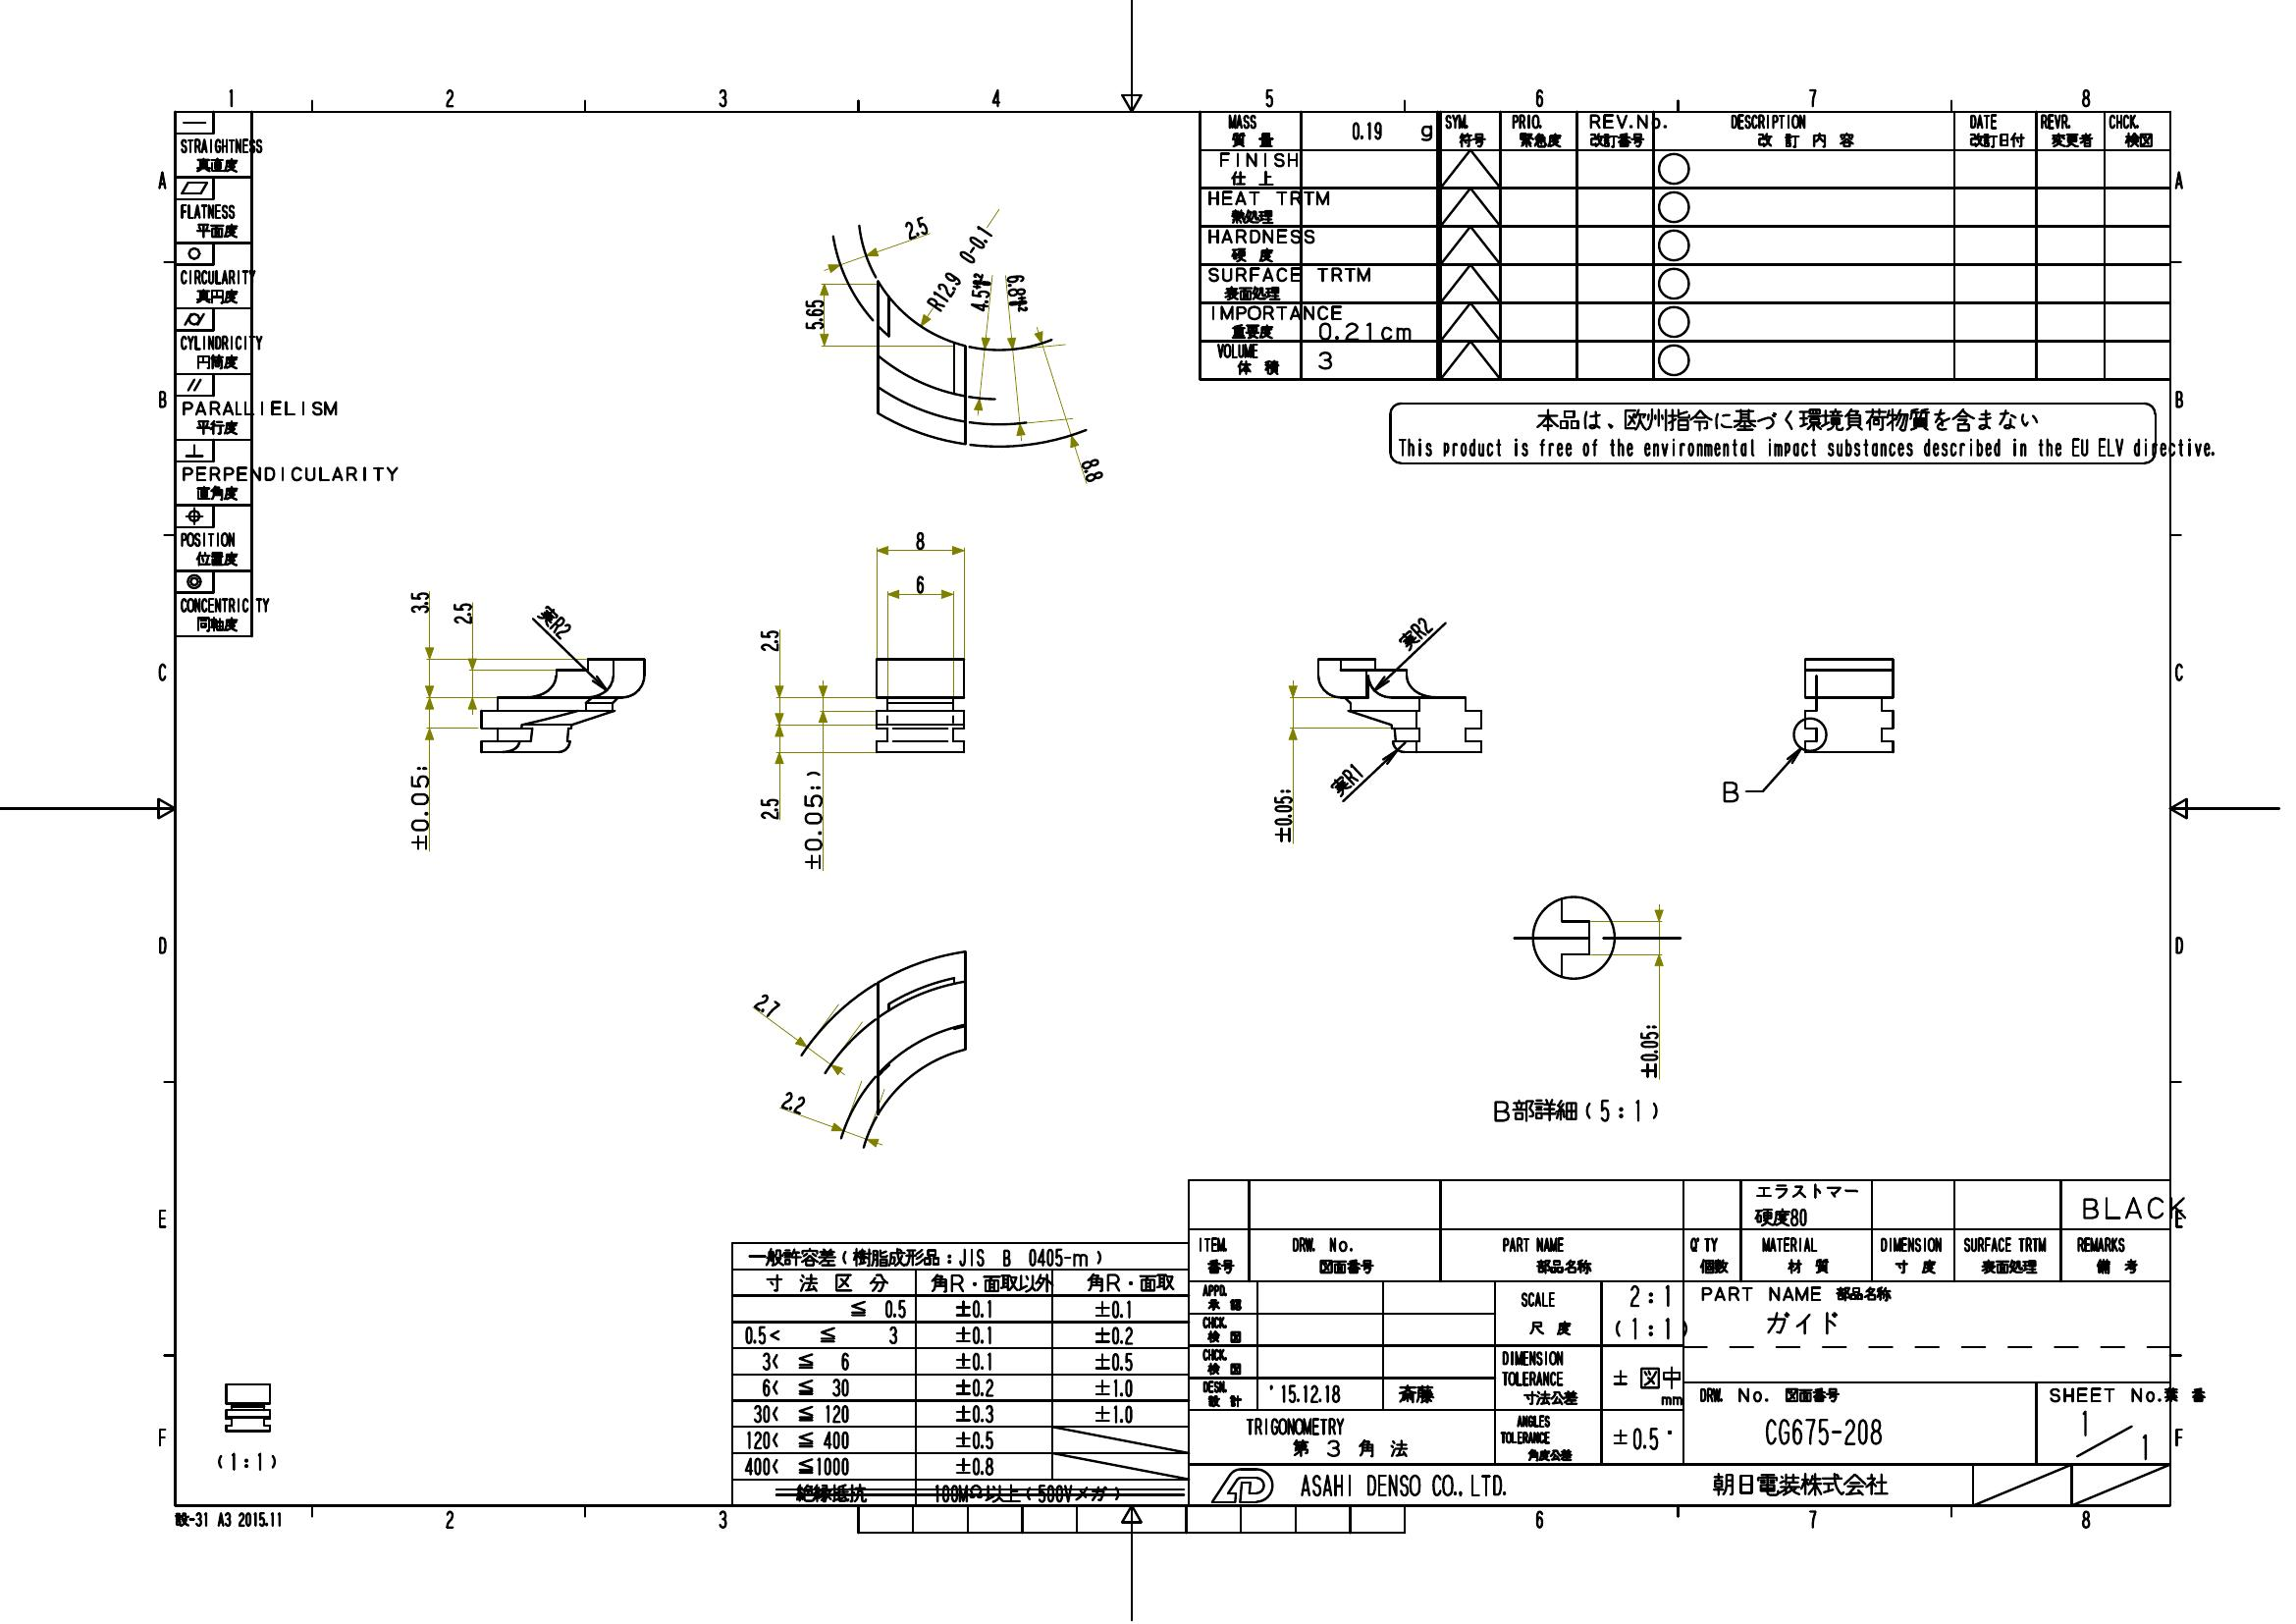anntotation_text: (1388, 401, 2215, 466), (1491, 1097, 1660, 1125), (174, 1510, 283, 1529), (216, 1450, 274, 1471), (1722, 777, 1739, 805)
dimension_text: (912, 257, 1008, 279), (803, 770, 824, 870), (409, 765, 429, 851), (1272, 787, 1293, 844), (1639, 1023, 1658, 1079), (1007, 272, 1029, 315), (534, 610, 574, 633), (970, 272, 991, 313), (1393, 622, 1433, 643), (1326, 768, 1365, 789), (803, 297, 824, 330), (754, 995, 780, 1016), (1080, 459, 1107, 480), (450, 601, 473, 624), (408, 591, 429, 613), (782, 1091, 805, 1113), (759, 629, 780, 652), (903, 220, 929, 237), (759, 798, 780, 819), (913, 531, 924, 550), (915, 575, 924, 594)
object: (1309, 657, 1483, 754), (873, 281, 970, 448), (875, 949, 970, 1118), (480, 659, 646, 752), (1802, 657, 1894, 754), (875, 657, 964, 752), (1532, 895, 1614, 981), (223, 1381, 272, 1434)
title_block: (731, 1178, 2171, 1508), (1196, 109, 2173, 380), (174, 112, 253, 638)
